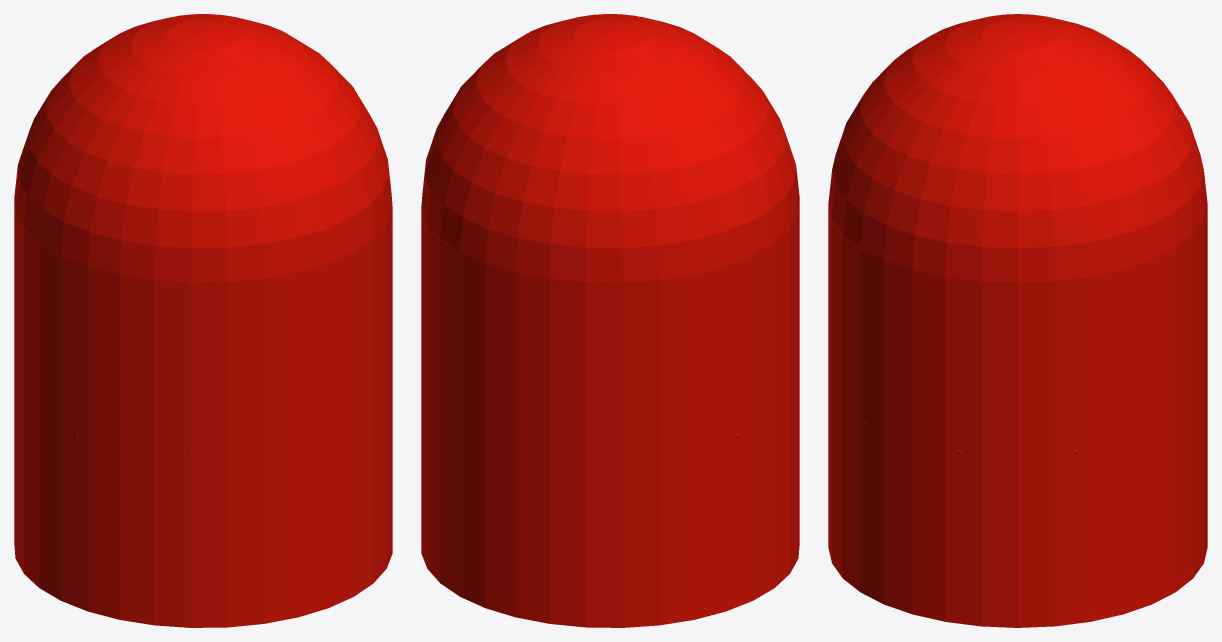
The model's file is bullet_tip.gltf.
3 views of the same model, side by side, from view 1: azimuth 30°, elevation 25°; view 2: azimuth 150°, elevation 25°; view 3: azimuth 270°, elevation 25° (orthographic).
Parts seen in each view (by area): view 1: Sphere; view 2: Sphere; view 3: Sphere.
Boxes of the visible parts, x1=… form: Sphere: x1=14, y1=14, x2=392, y2=627; Sphere: x1=421, y1=14, x2=799, y2=627; Sphere: x1=828, y1=14, x2=1207, y2=627.
Size of the model in its own units: 2 by 3.01 by 2.
